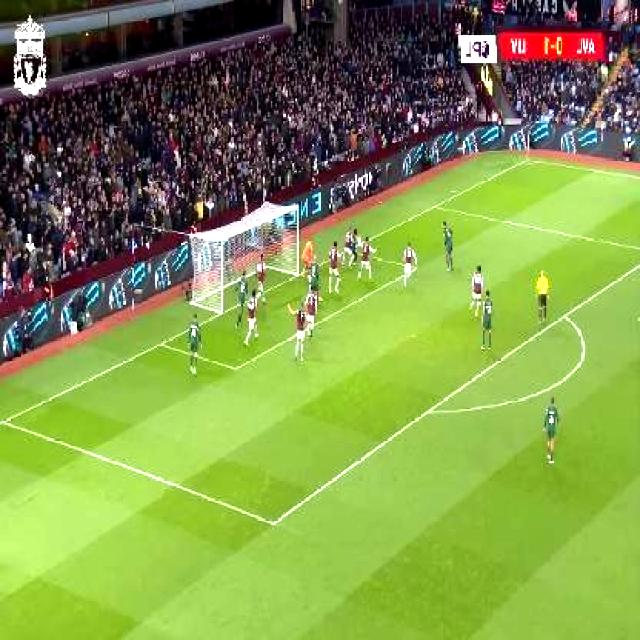bigarea_bottom_inner: (265, 506, 286, 537)
bigarea_bottom_outter: (0, 409, 12, 430)
bigarea_top_outter: (429, 197, 442, 212)
bottom_arc_area_intersection: (420, 397, 440, 423)
corner: (518, 152, 537, 166)
smallarea_bottom_inner: (226, 354, 245, 380)
smallarea_bottom_outter: (156, 334, 170, 352)
smallarea_top_inner: (408, 260, 422, 275)
top_arc_area_intersection: (556, 302, 576, 328)
